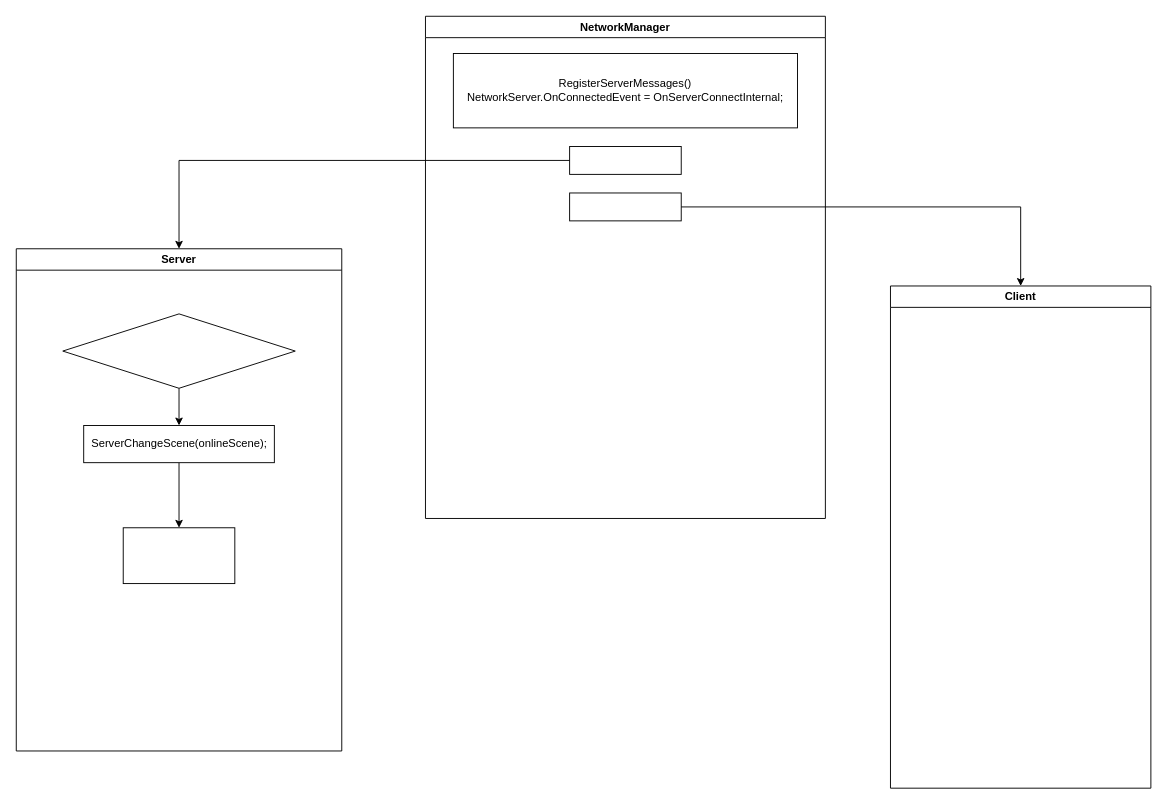
Some shapes in this 1167 by 804 pixel diagram are drawn without their labels. Each missing label, with the box of its shape:
IsServerOnlineSceneChangeNeeded: (62, 313, 295, 388)
StartClient(): (569, 192, 681, 221)
StartServer(): (569, 146, 681, 174)
